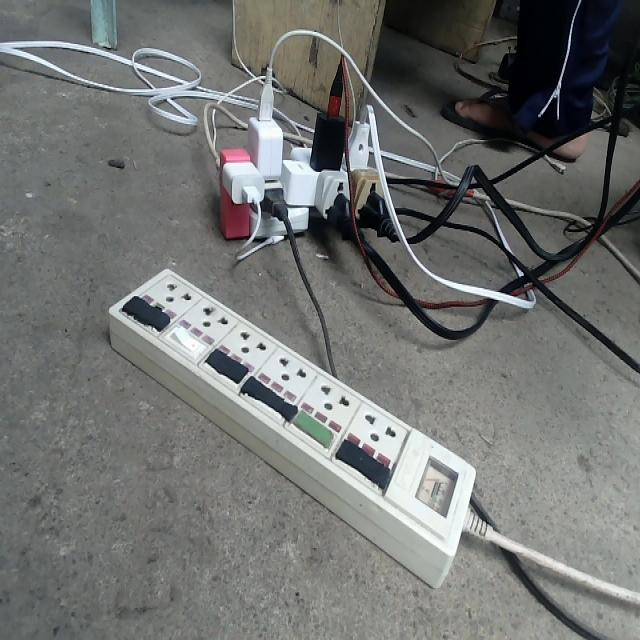-: (218, 64, 401, 245)
